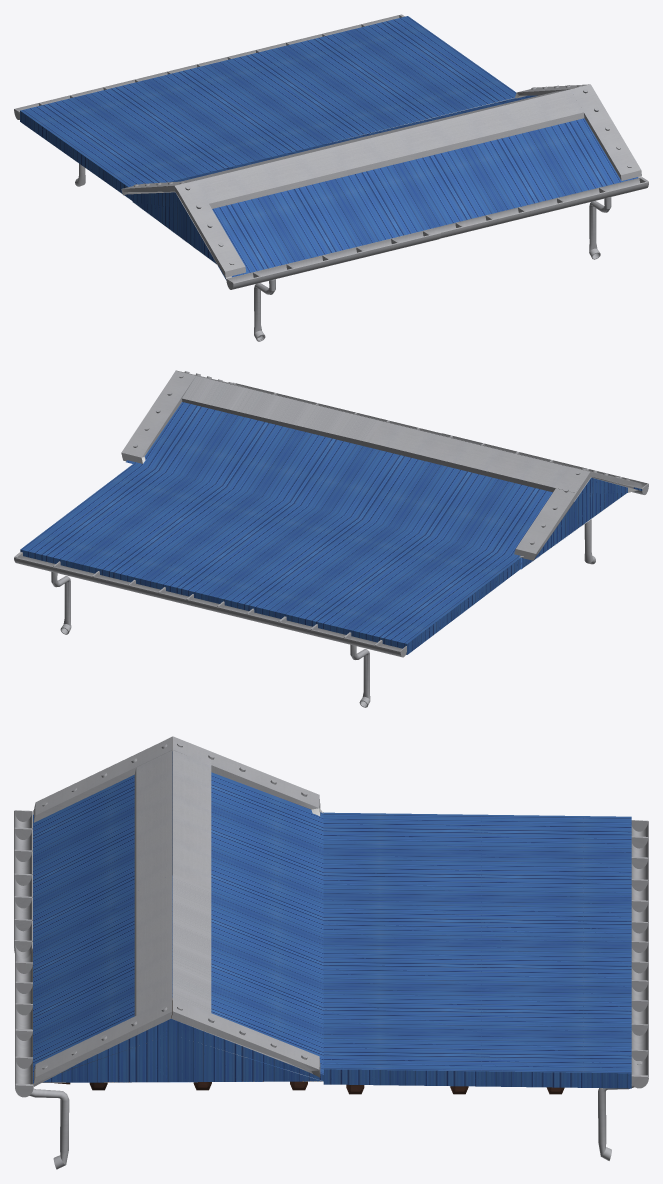
The model's file is ev çatısı süslenmiş.fbx.
The picture shows the model from 3 angles, top to bottom: view 1: azimuth 30°, elevation 25°; view 2: azimuth 150°, elevation 25°; view 3: azimuth 270°, elevation 25°; orthographic projection. The views are drawn at different scales.
Visible parts, largest first — view 1: Plane.003, Plane.085, Plane.001; view 2: Plane.003, Plane.085, Plane.001; view 3: Plane.003, Plane.001, Plane.085.
Boxes of the visible parts, <box> form: Plane.003: <box>14,14,516,200</box>; Plane.085: <box>121,135,440,341</box>; Plane.001: <box>328,84,648,259</box>; Plane.003: <box>14,463,520,707</box>; Plane.085: <box>328,421,648,569</box>; Plane.001: <box>121,370,441,510</box>; Plane.003: <box>323,812,648,1160</box>; Plane.001: <box>15,874,323,1169</box>; Plane.085: <box>14,736,323,958</box>.
Bounding box in the file's own units: 1600 × 494 × 1557.
1 material, 1 textured.
